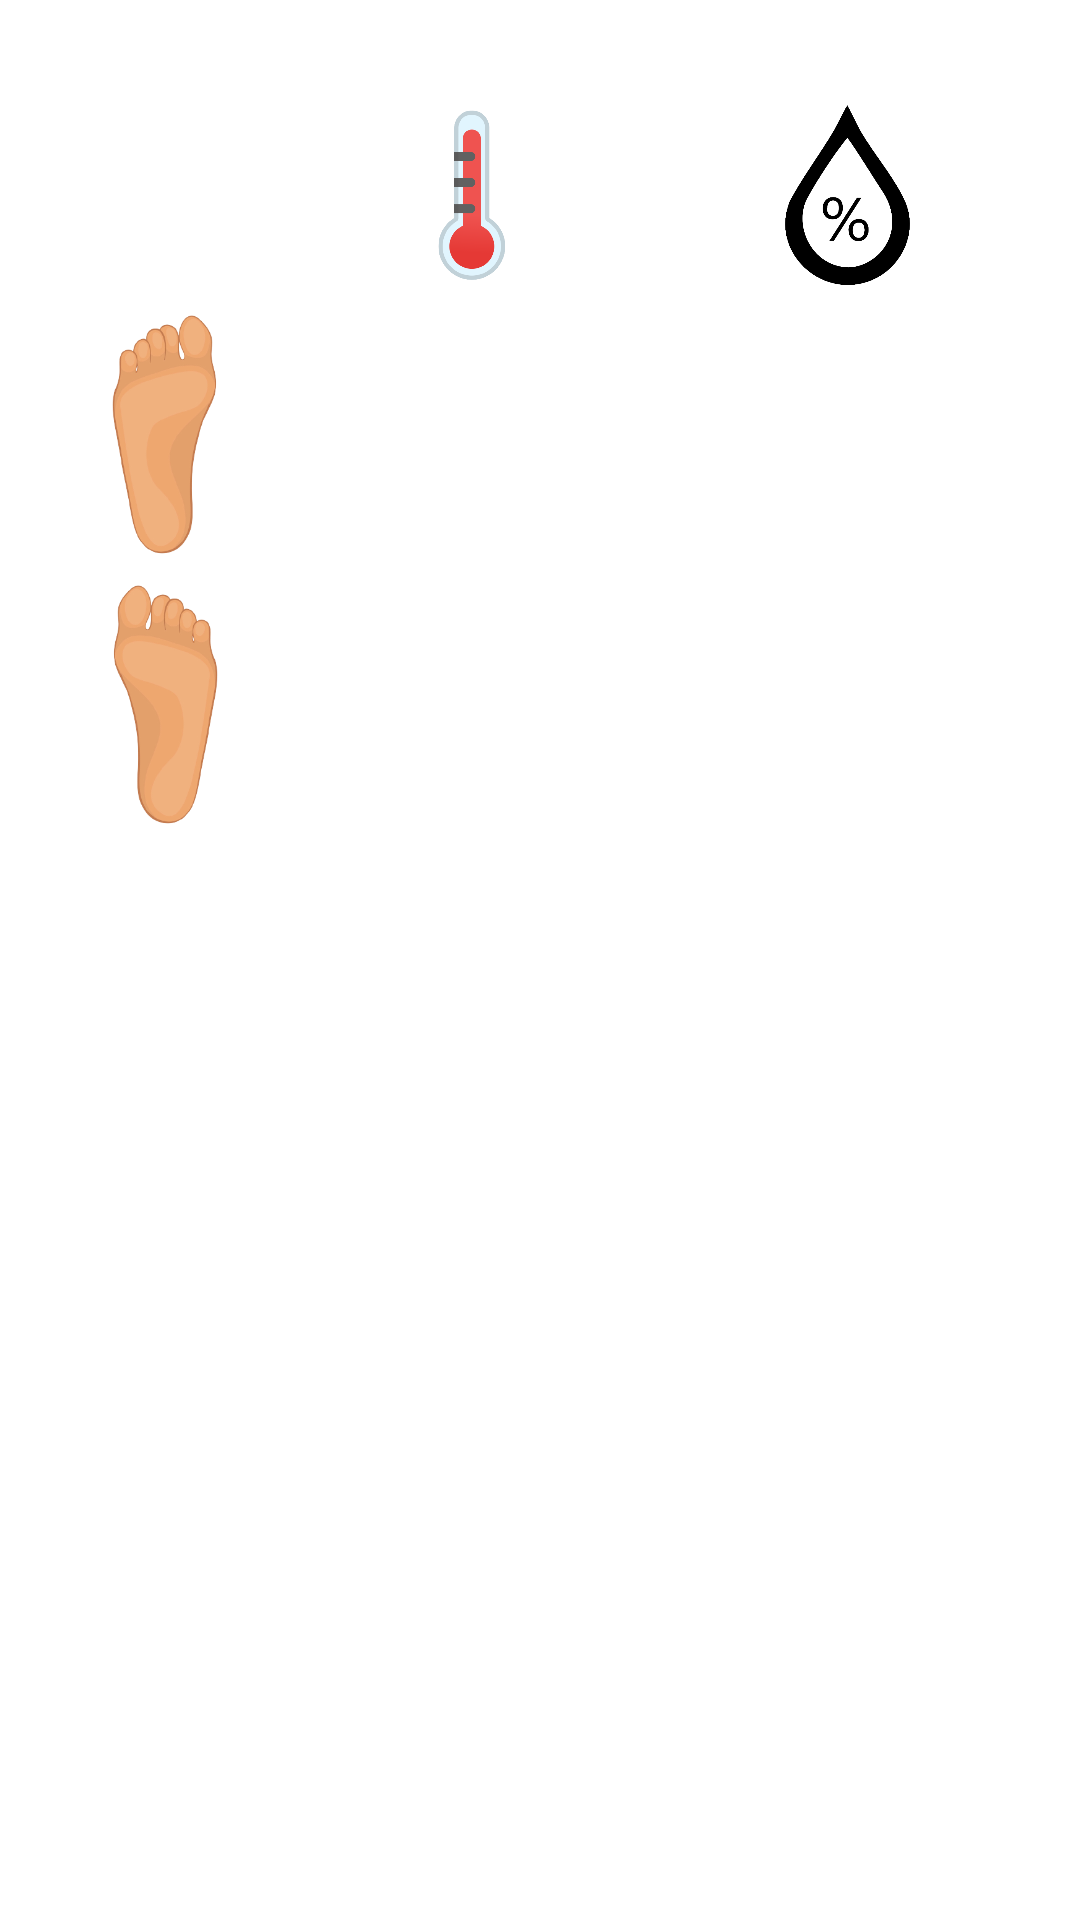

Icons on this 1080px x 1920px Android screen, each with the point to tap as (x,y):
Humidity: (847,195)
Left foot: (164,434)
Right foot: (166,704)
Temperature: (472,195)
